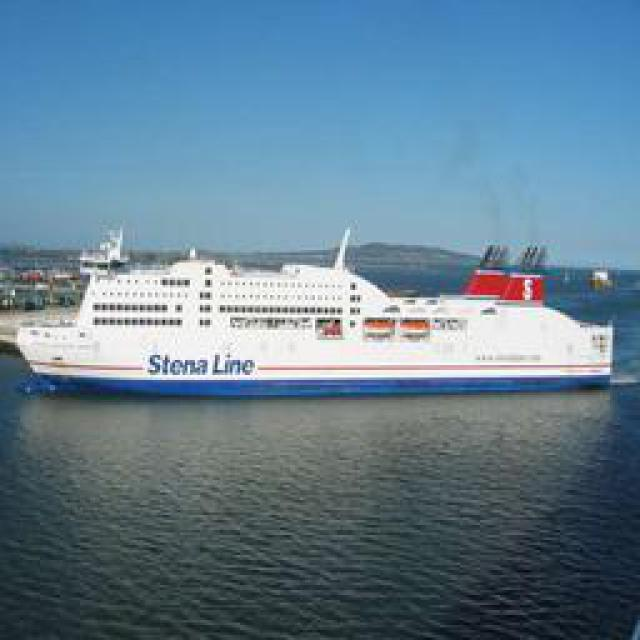Ship: (35, 224, 625, 399)
